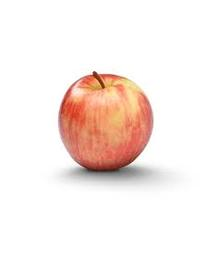apple: (57, 71, 153, 171)
